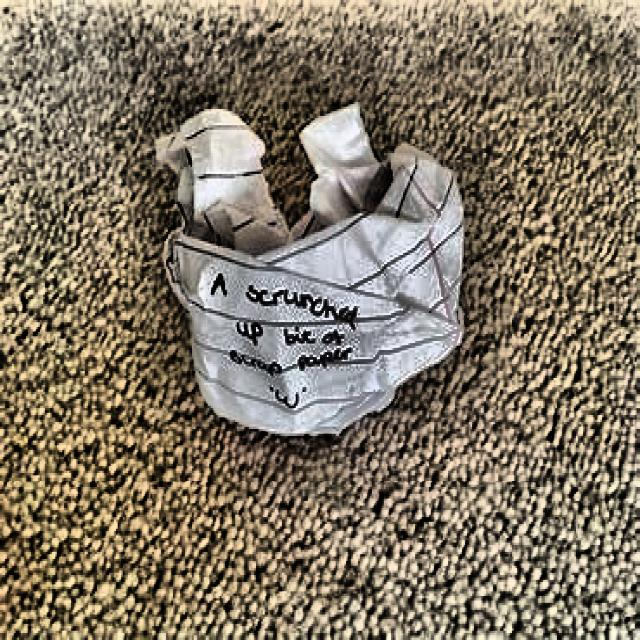Paper: (147, 78, 472, 481)
